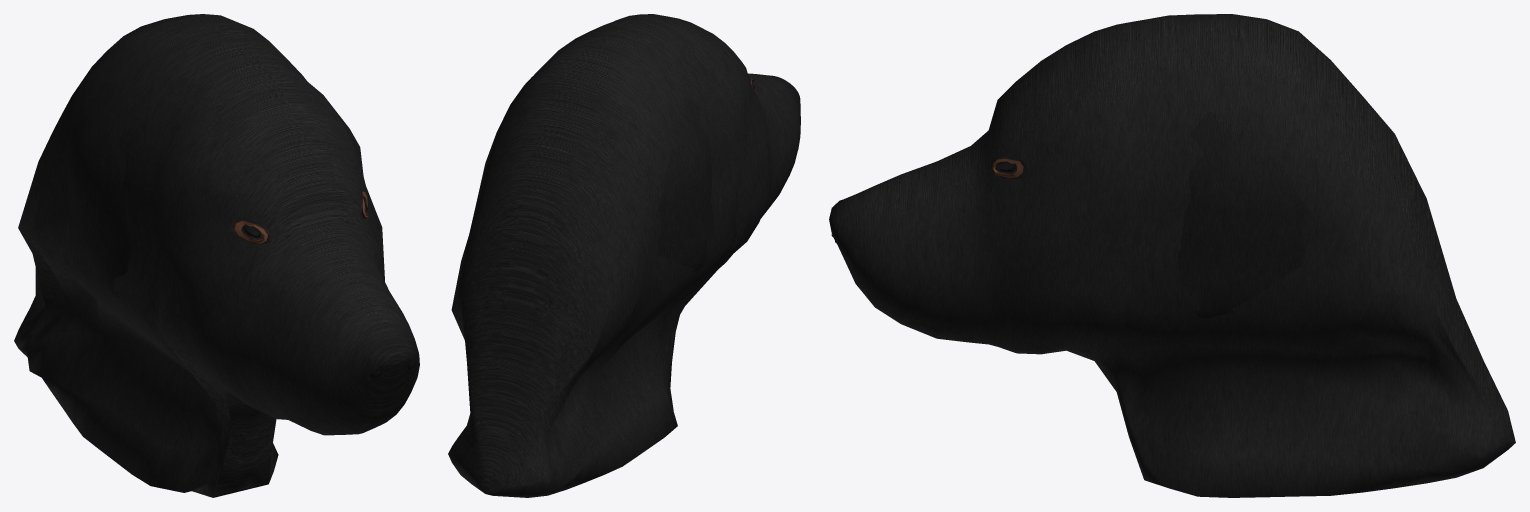
The model's file is labrador_head_low_poly.glb.
3 renders of one model, left to right at view 1: azimuth 30°, elevation 25°; view 2: azimuth 150°, elevation 25°; view 3: azimuth 270°, elevation 25°, orthographic. The views are drawn at different scales.
Parts seen in each view (by area): view 1: labrador_head_low_poly; view 2: labrador_head_low_poly; view 3: labrador_head_low_poly.
Boxes of the visible parts, box(x1,y1,x2,y2) form: labrador_head_low_poly: box(14, 14, 419, 497); labrador_head_low_poly: box(448, 14, 800, 497); labrador_head_low_poly: box(829, 14, 1515, 497).
Size of the model in its own units: 0.1234 by 0.2282 by 0.3209.
Materials: 5 (1 with a texture image).
